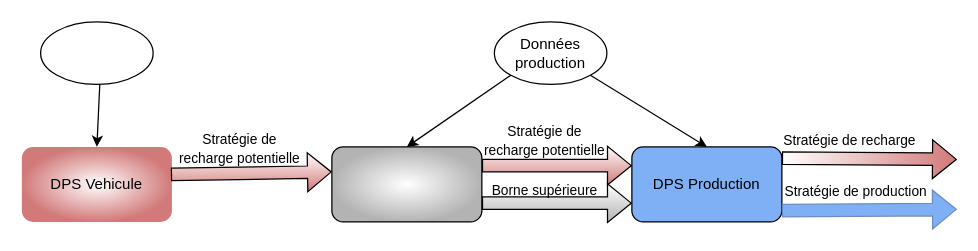
This 978x251 diagram has some shape labels left out. The centre of each missing label's shape, as x and y in pixels:
"Données véhicule" belongs at point 96,52.
"DPS Greedy Production" belongs at point 406,184.
